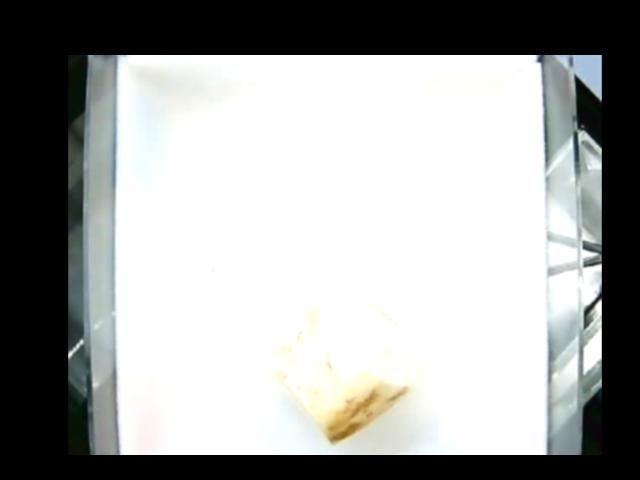Mooli: (263, 286, 419, 444)
